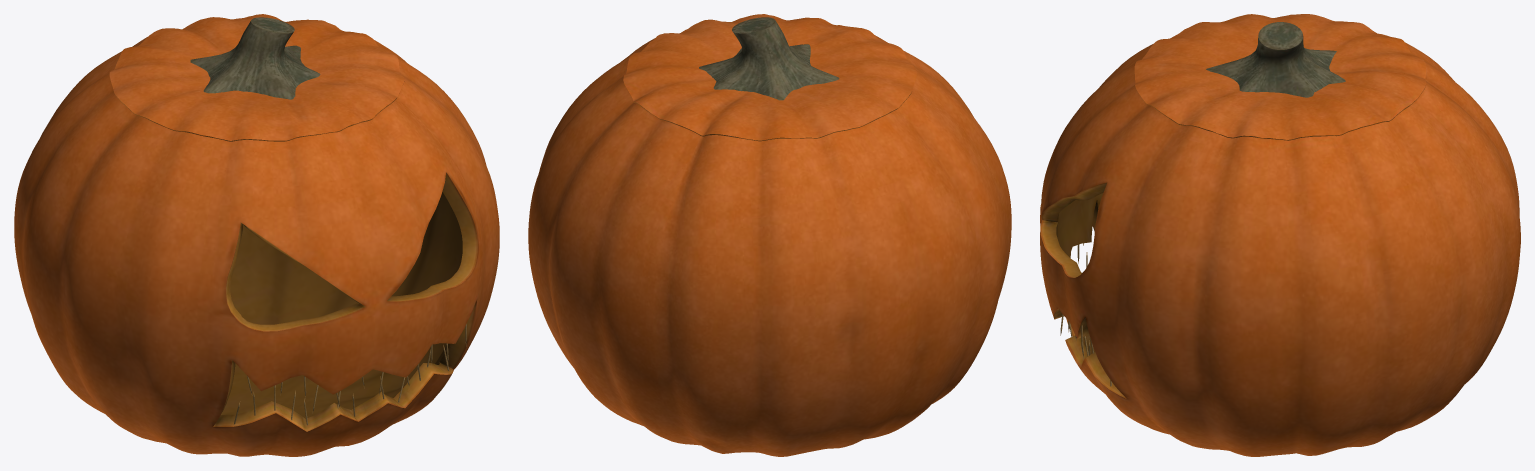
The model's file is jackolantarn.gltf.
3 renders of one model, left to right at view 1: azimuth 30°, elevation 25°; view 2: azimuth 150°, elevation 25°; view 3: azimuth 270°, elevation 25°, orthographic.
Visible parts, largest first — view 1: Body_lp, BodyTop_lp, Sphere.001_lp; view 2: Body_lp, BodyTop_lp, Sphere.001_lp; view 3: Body_lp, BodyTop_lp, Sphere.001_lp.
Part boxes in pixels (x1,y1,x2,y2): Body_lp: [14, 37, 499, 456]; BodyTop_lp: [109, 14, 404, 141]; Sphere.001_lp: [190, 17, 320, 99]; Body_lp: [528, 35, 1011, 456]; BodyTop_lp: [623, 14, 916, 141]; Sphere.001_lp: [699, 17, 839, 100]; Body_lp: [1040, 30, 1520, 456]; BodyTop_lp: [1134, 14, 1426, 140]; Sphere.001_lp: [1206, 22, 1345, 97].
Bounding box in the file's own units: 0.3815 × 0.3439 × 0.3817.
1 material, 1 textured.
